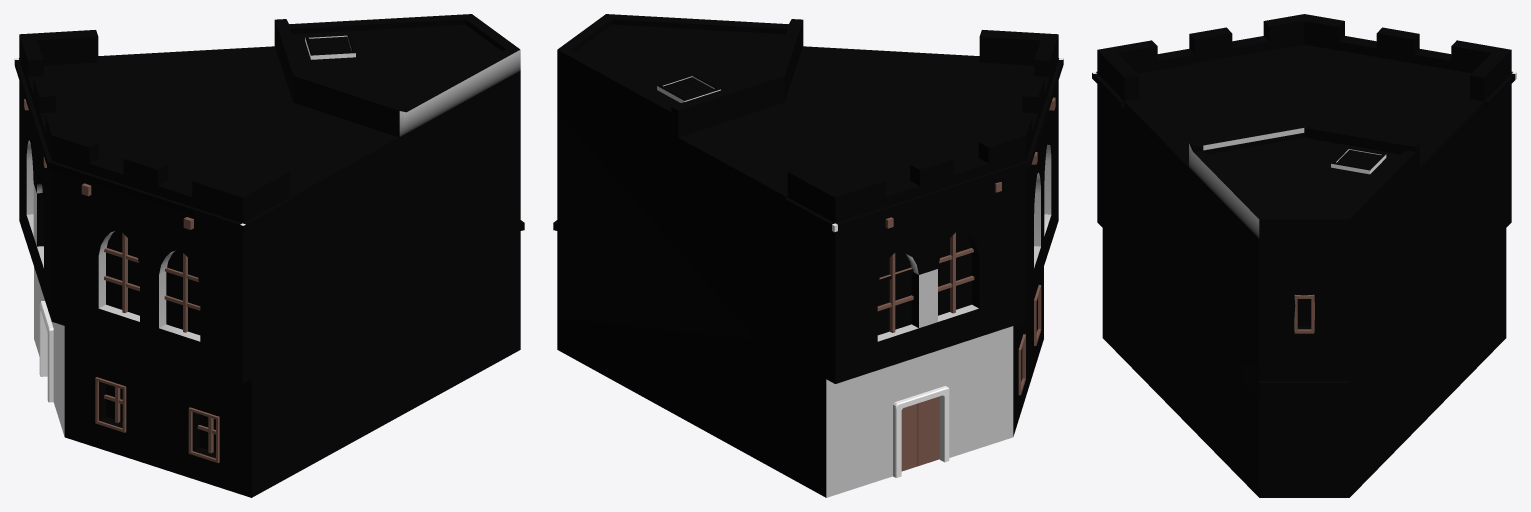
File: civilian_house_05.FBX
The picture shows the model from 3 angles, left to right: view 1: azimuth 30°, elevation 25°; view 2: azimuth 150°, elevation 25°; view 3: azimuth 270°, elevation 25°; orthographic projection. The views are drawn at different scales.
Visible parts, largest first — view 1: civilian_house_05_LOD0; view 2: civilian_house_05_LOD0; view 3: civilian_house_05_LOD0.
Boxes of the visible parts, bbox=[...] form: civilian_house_05_LOD0: bbox=[14, 14, 524, 497]; civilian_house_05_LOD0: bbox=[553, 14, 1063, 497]; civilian_house_05_LOD0: bbox=[1092, 14, 1516, 497].
Size of what is drawn, in the model's own units: 1772 by 1145 by 1556.
